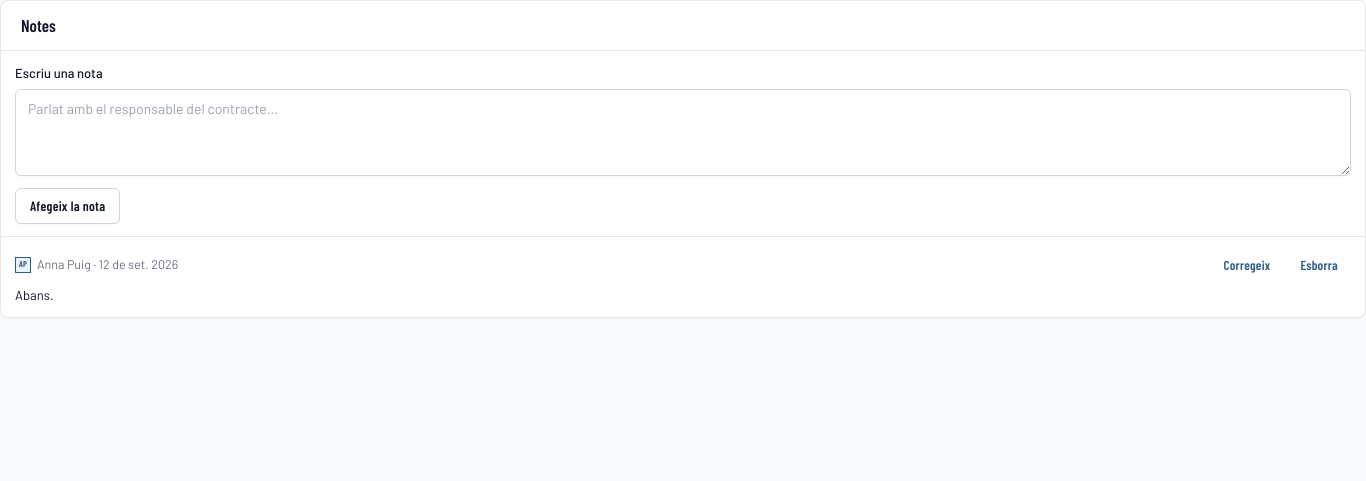
Test case: Checklist · Tasques · Notes (restil sense canviar la lògica) › notes (Bloc 1): un error es mostra i cancel·lar l'esborra
This screenshot has width=1366, height=481.
Click the button with aria-label "Corregeix la nota" at (1247, 264), box [1211,248,1283,280]
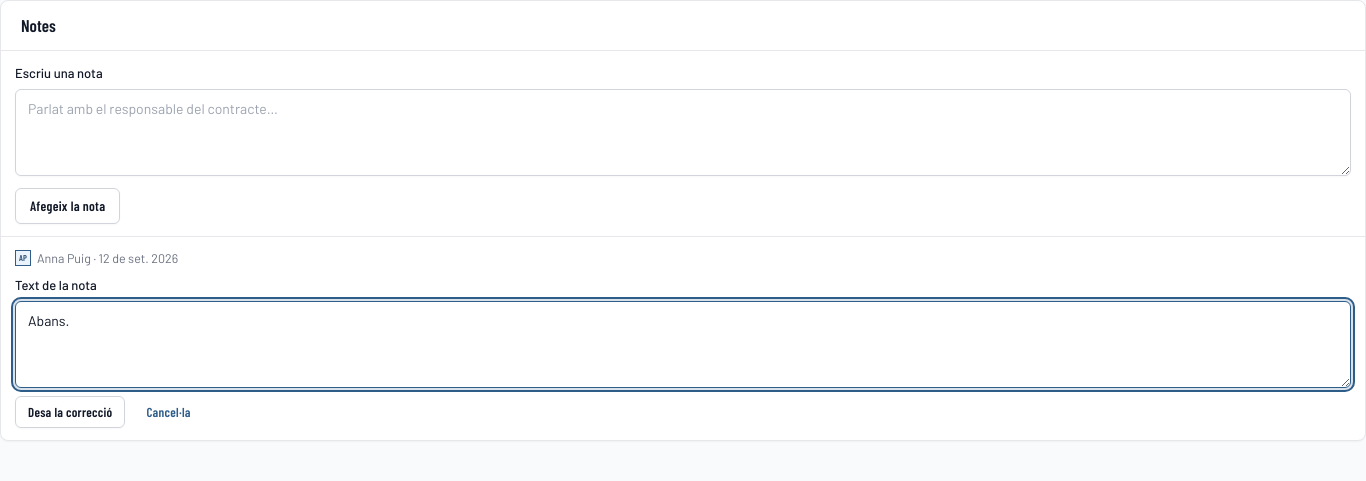
Replace the text in the text box labelled "Text de la nota" with "Després." at (683, 344), box [15,301,1351,388]
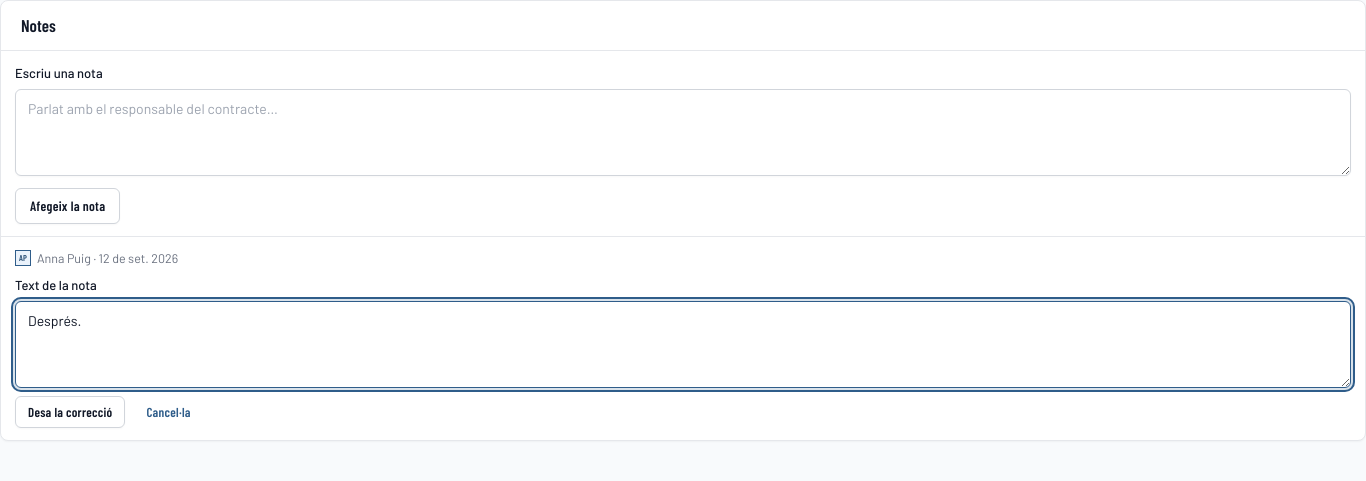
Click the button "Desa la correcció" at (70, 412), box [15,396,125,428]
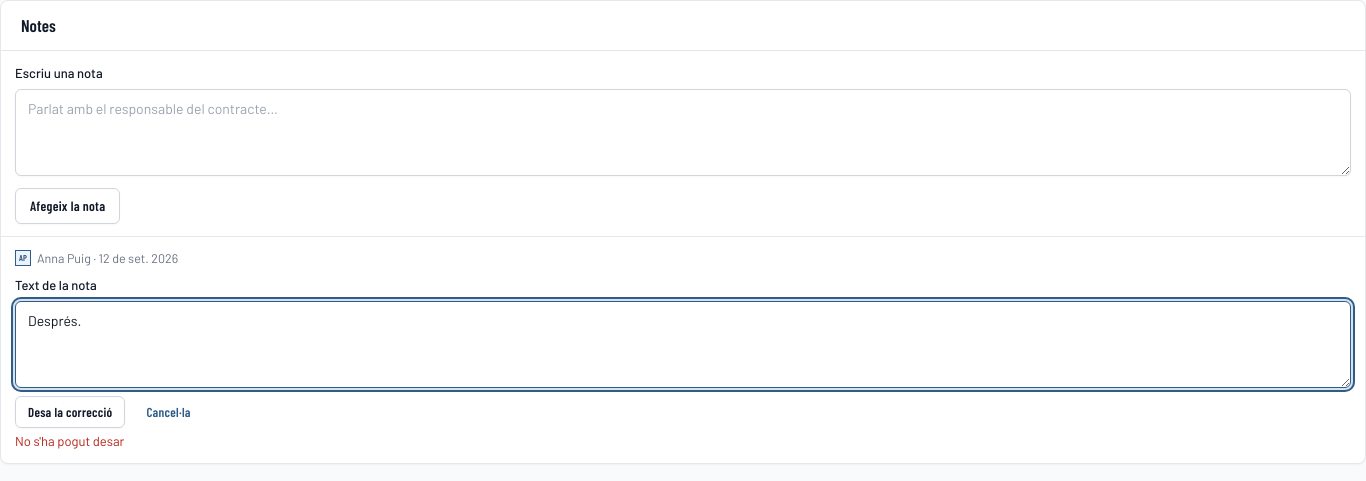
expect the text "No s'ha pogut desar" is shown: met, box [15,432,124,448]
Click the button "Cancel·la" at (169, 412), box [133,396,204,428]
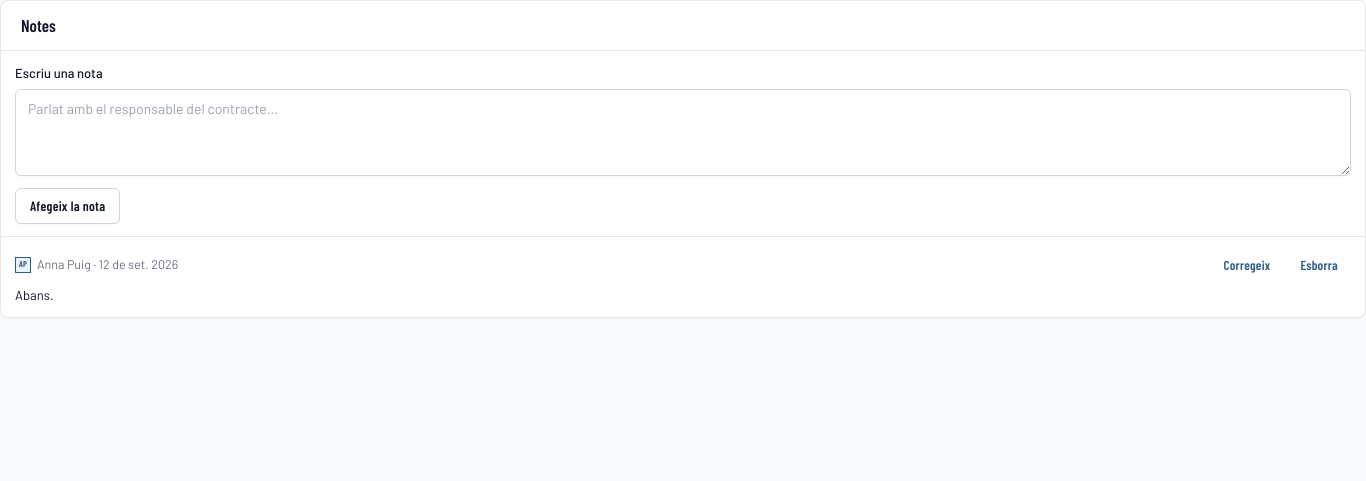
expect the text "No s'ha pogut desar" is gone: met
expect the text "Abans." is shown: met, box [15,286,54,302]
